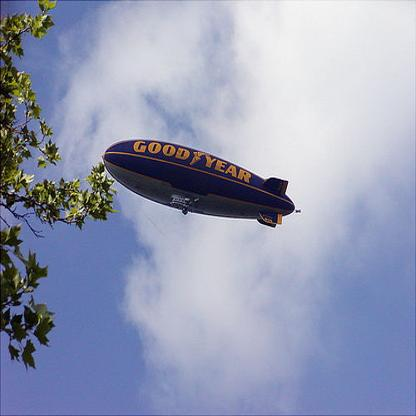Airship: (102, 138, 306, 239)
